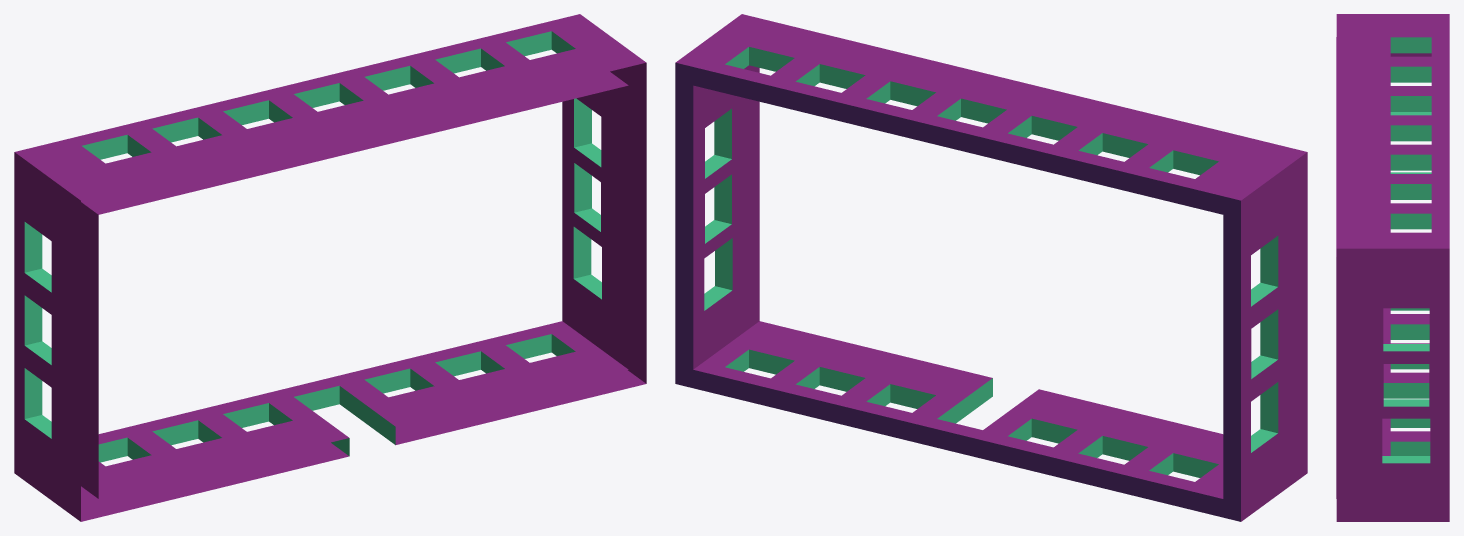
The model's file is Laża masońska Tier 1.fbx.
3 views of the same model, side by side, from view 1: azimuth 30°, elevation 25°; view 2: azimuth 150°, elevation 25°; view 3: azimuth 270°, elevation 25° (orthographic). The views are drawn at different scales.
Parts seen in each view (by area): view 1: Loza Masonskav2; view 2: Loza Masonskav2; view 3: Loza Masonskav2.
Part boxes in pixels (x1=…): Loza Masonskav2: x1=14, y1=14, x2=646, y2=521; Loza Masonskav2: x1=675, y1=14, x2=1307, y2=521; Loza Masonskav2: x1=1336, y1=14, x2=1449, y2=521.
Bounding box in the file's own units: 3.87 × 2.1 × 0.7878.
